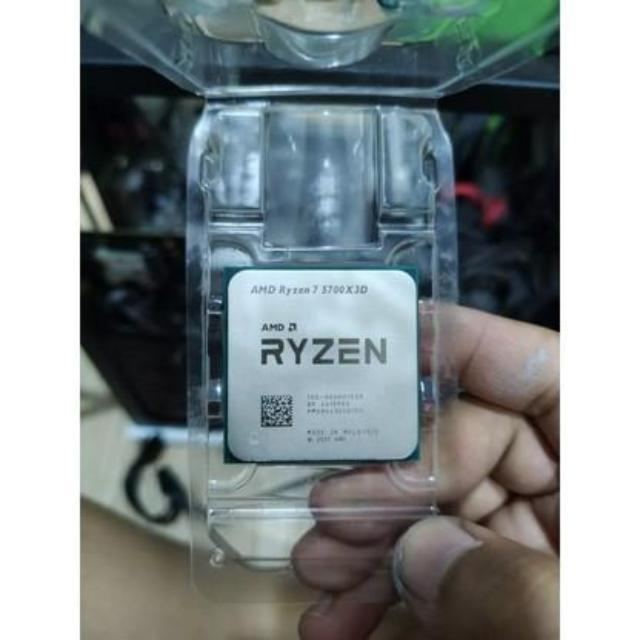CPU: (222, 264, 422, 464)
